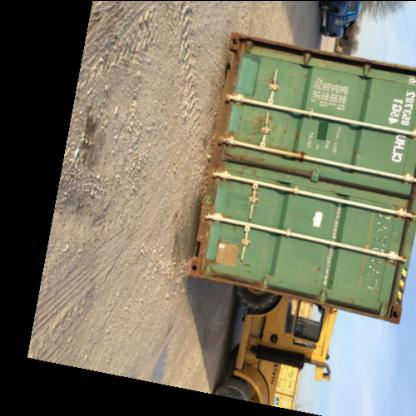Damage: (358, 204, 395, 294), (192, 226, 234, 276), (244, 102, 282, 142), (222, 151, 270, 173), (310, 260, 328, 286), (268, 68, 286, 86)
